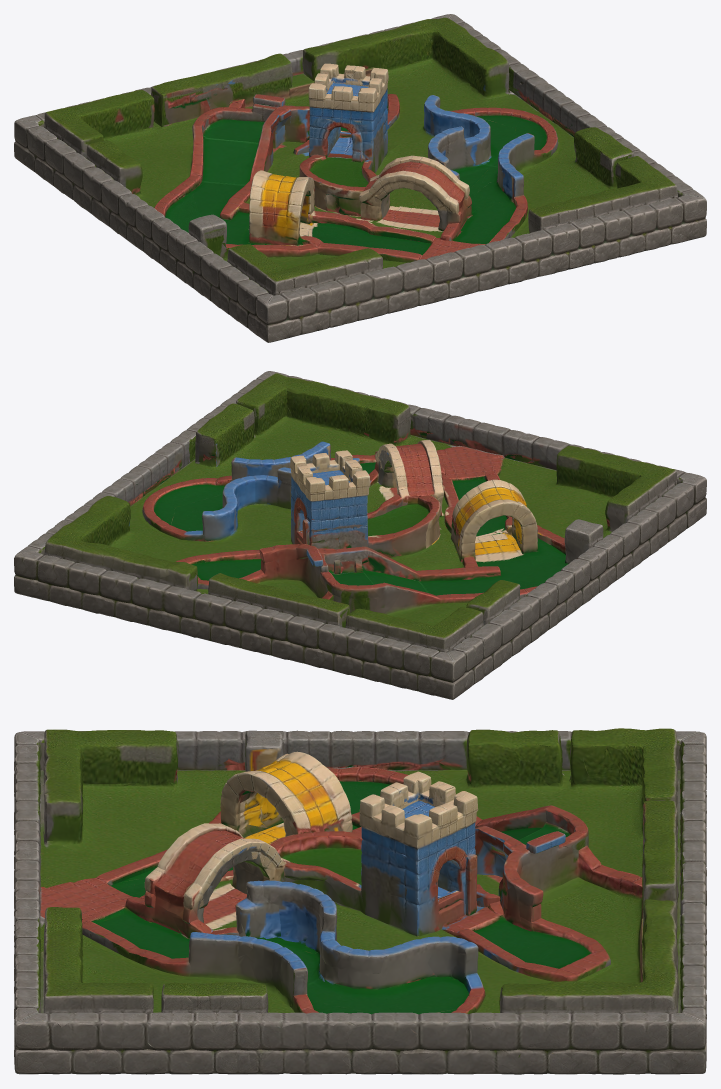
Rendered from building_crazy_golf.glb.
The picture shows the model from 3 angles, top to bottom: view 1: azimuth 30°, elevation 25°; view 2: azimuth 150°, elevation 25°; view 3: azimuth 270°, elevation 25°; orthographic projection. The views are drawn at different scales.
Visible parts, largest first — view 1: output_unwrapped; view 2: output_unwrapped; view 3: output_unwrapped.
Boxes of the visible parts, bbox=[...] form: output_unwrapped: bbox=[14, 14, 706, 342]; output_unwrapped: bbox=[14, 371, 706, 699]; output_unwrapped: bbox=[14, 728, 706, 1074].
Bounding box in the file's own units: 2 × 0.4497 × 2.
Materials: 1 (1 with a texture image).
